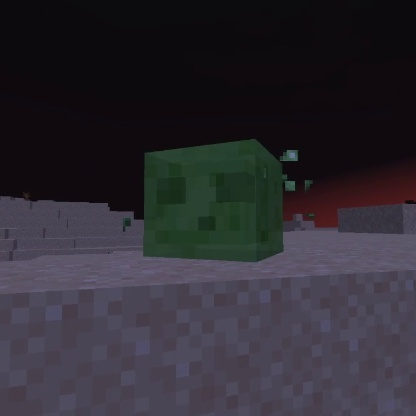slime: (136, 134, 290, 266)
